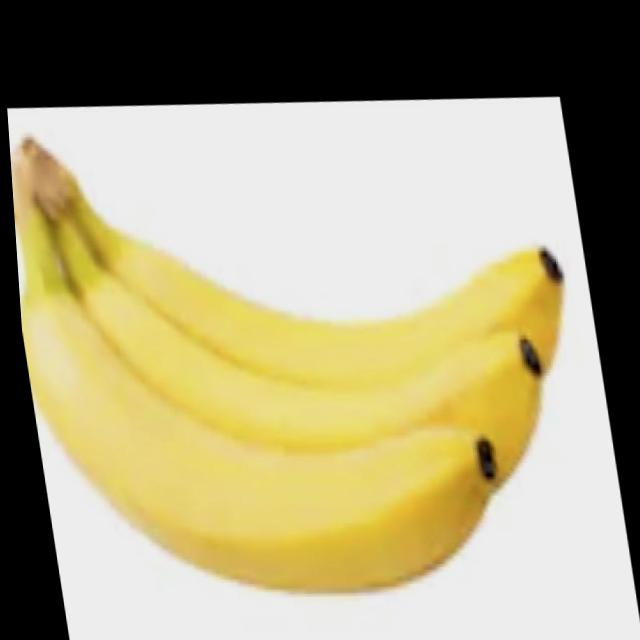Banana: (5, 86, 606, 627)
